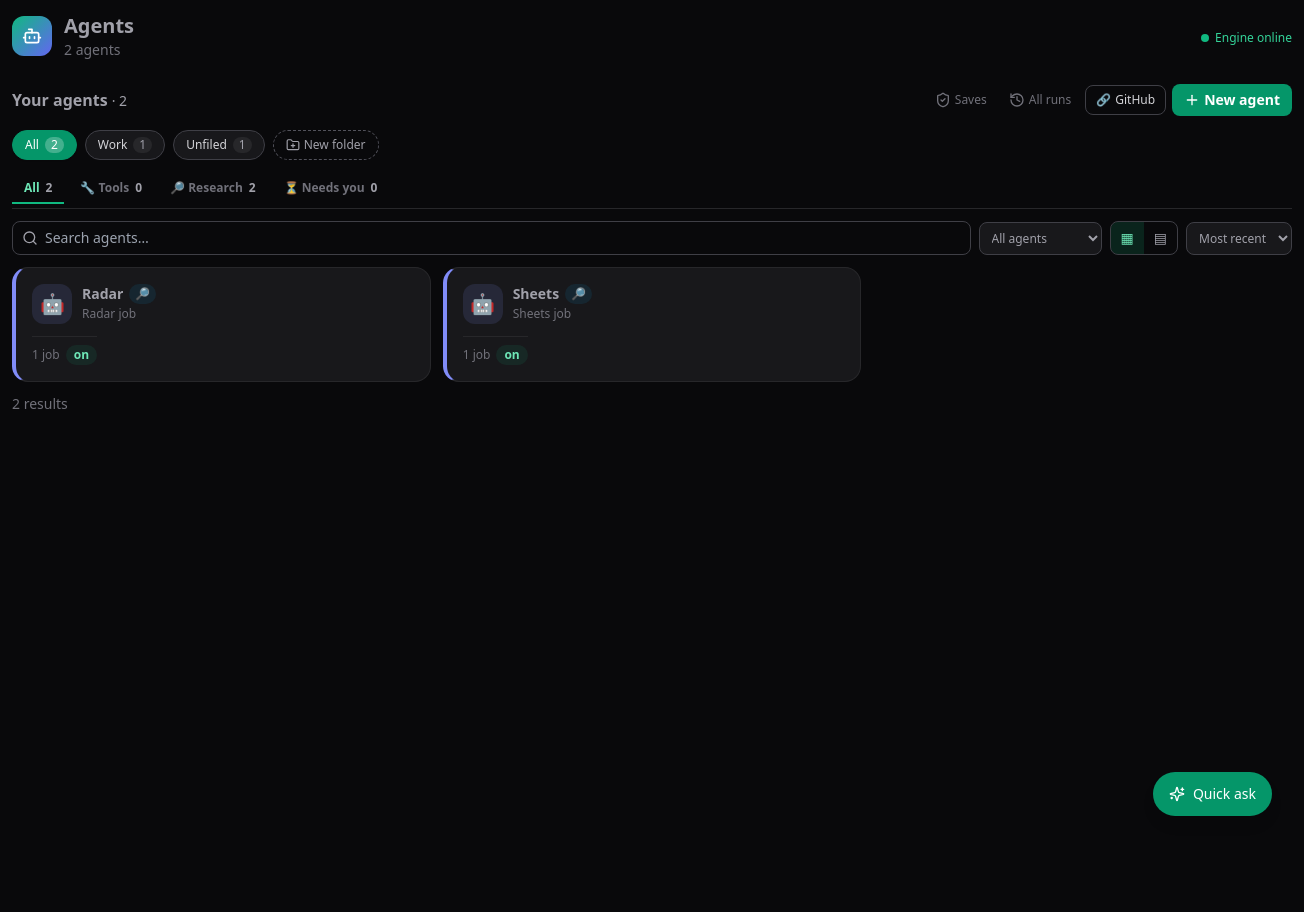
Test case: the folder chips row (BEA-1380 · layout BEA-1383) › picking a folder shows only its agents; Unfiled shows the rest; All shows everything
This screenshot has width=1304, height=912.
Check: the text "Radar" is shown, box top-left (82, 284), bottom-right (123, 304)
Check: the text "Sheets" is shown, box top-left (513, 284), bottom-right (559, 304)
Click the tab "Work 1" at (125, 145), box top-left (85, 130), bottom-right (165, 160)
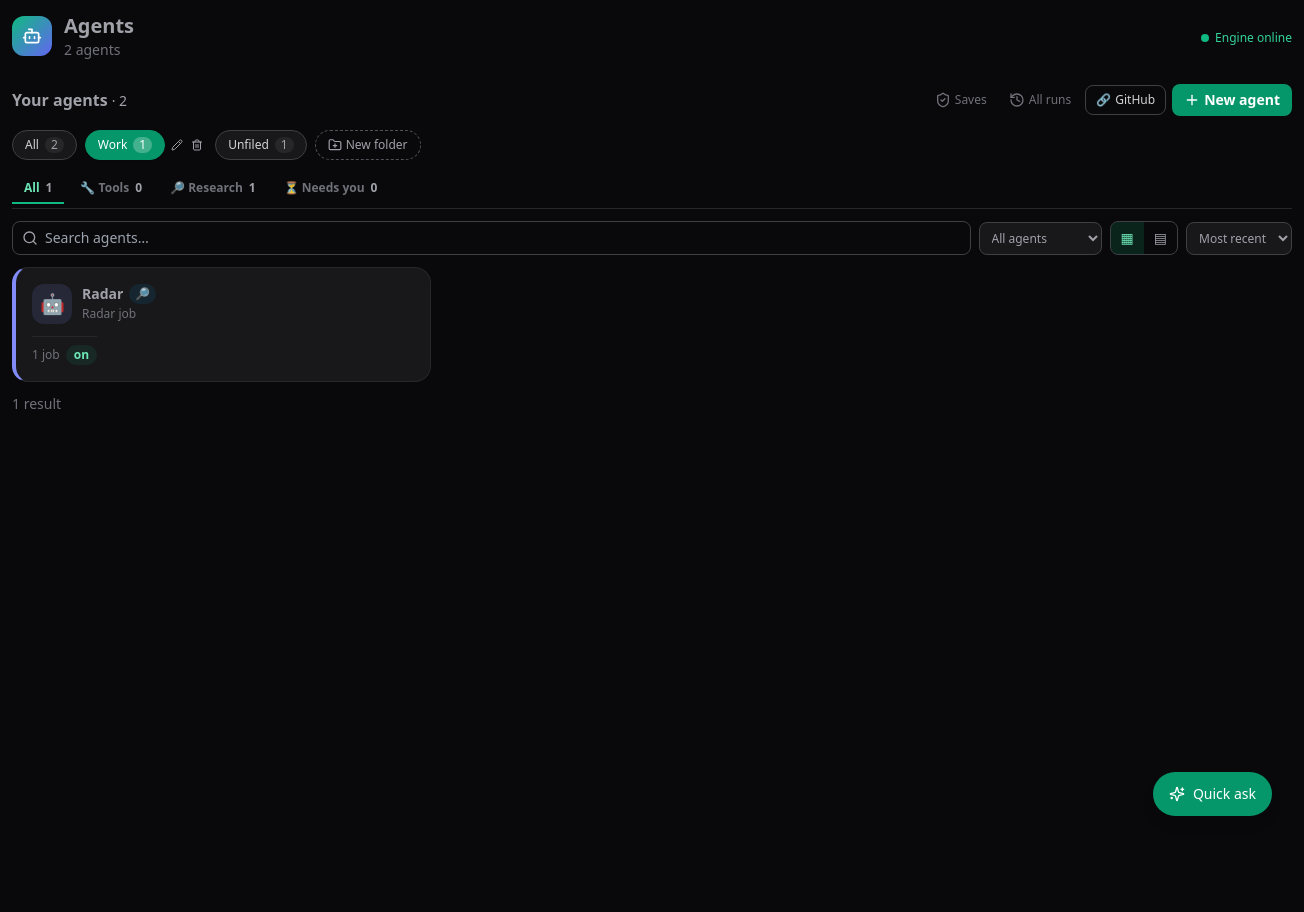
Check: the text "Radar" is shown, box top-left (82, 284), bottom-right (123, 304)
Check: the button "Sheets" is gone
Click the tab "Unfiled 1" at (261, 145), box top-left (215, 130), bottom-right (307, 160)
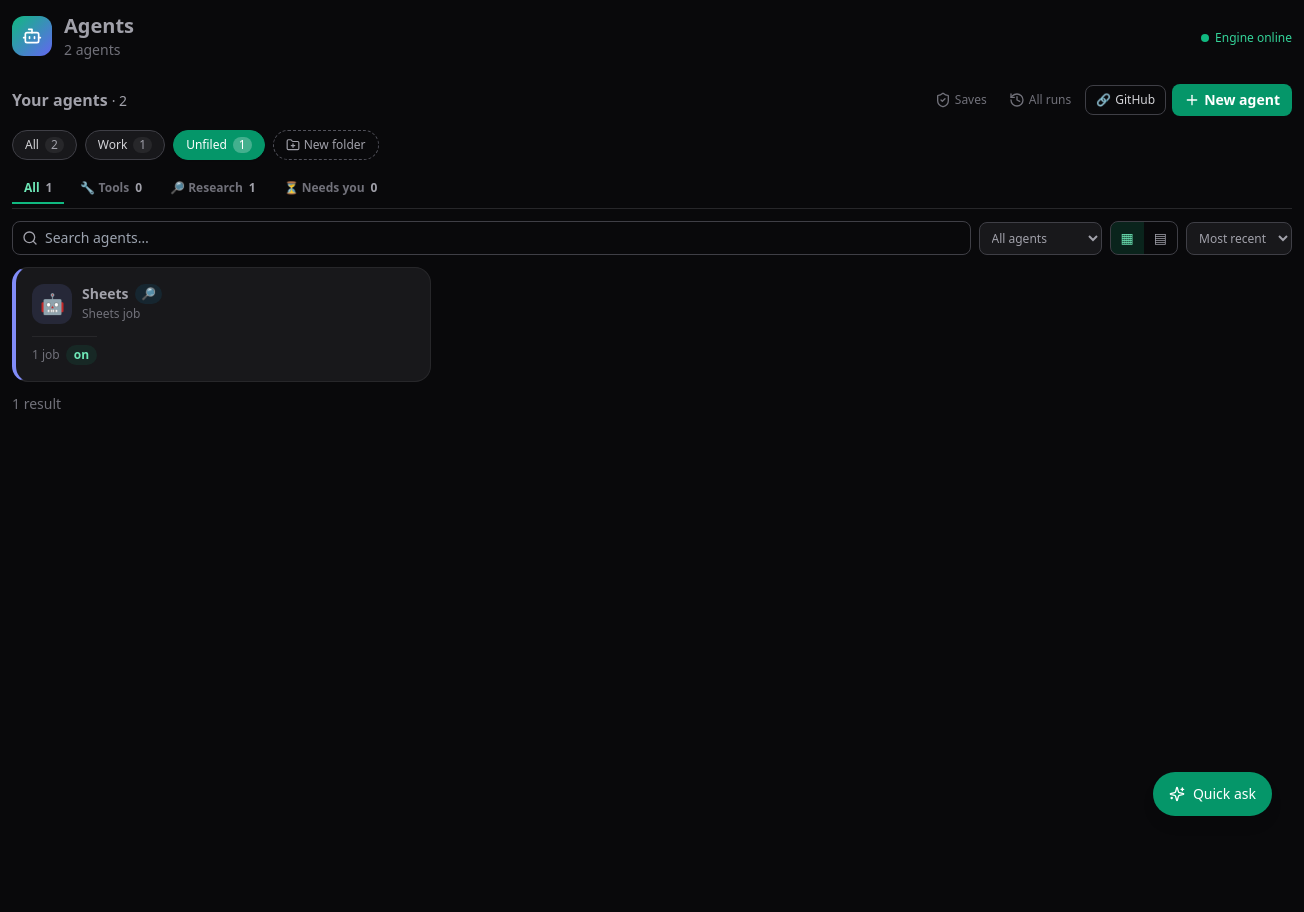
Check: the button "Radar" is gone
Check: the text "Sheets" is shown, box top-left (82, 284), bottom-right (128, 304)
Click the tab "All 2" at (44, 145), box top-left (12, 130), bottom-right (77, 160)
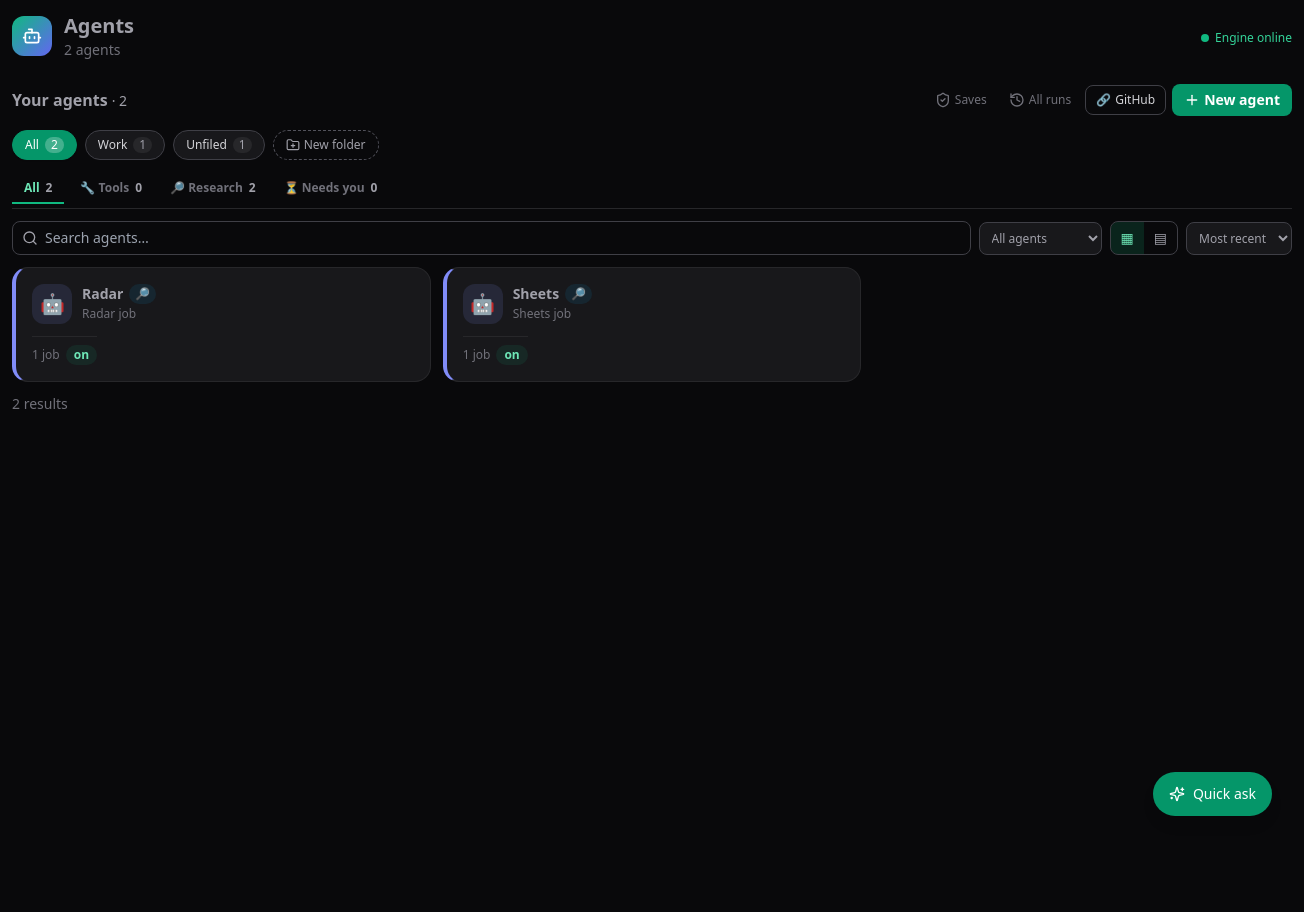
Check: the text "Sheets" is shown, box top-left (513, 284), bottom-right (559, 304)
Check: the text "Radar" is shown, box top-left (82, 284), bottom-right (123, 304)
